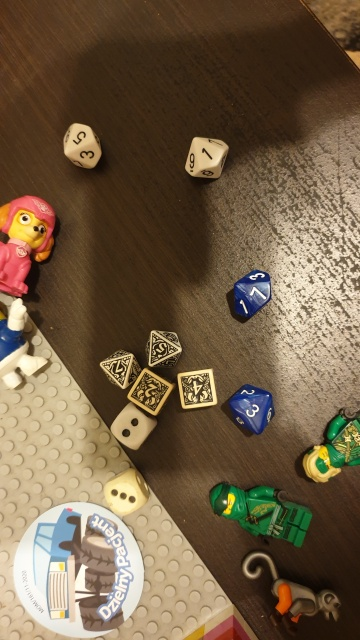d10-1: (180, 130, 237, 183)
d10-3: (228, 382, 278, 440)
d10-5: (60, 121, 103, 174)
d10-7: (227, 264, 275, 324)
d6-2: (102, 403, 154, 447)
d6-3: (101, 467, 152, 513)
d6p-2: (126, 367, 174, 413)
d6p-4: (174, 365, 219, 414)
d8p-5: (140, 326, 185, 368)
d8p-7: (95, 345, 141, 394)
